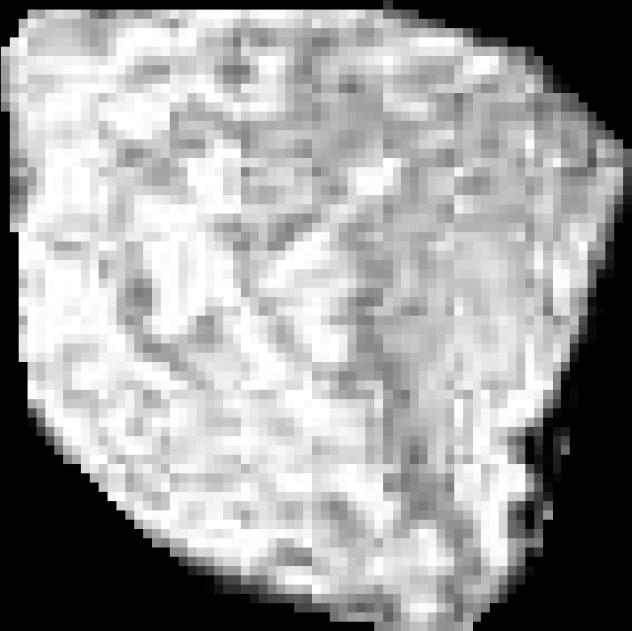tumor_good_chance: (1, 0, 632, 631)
